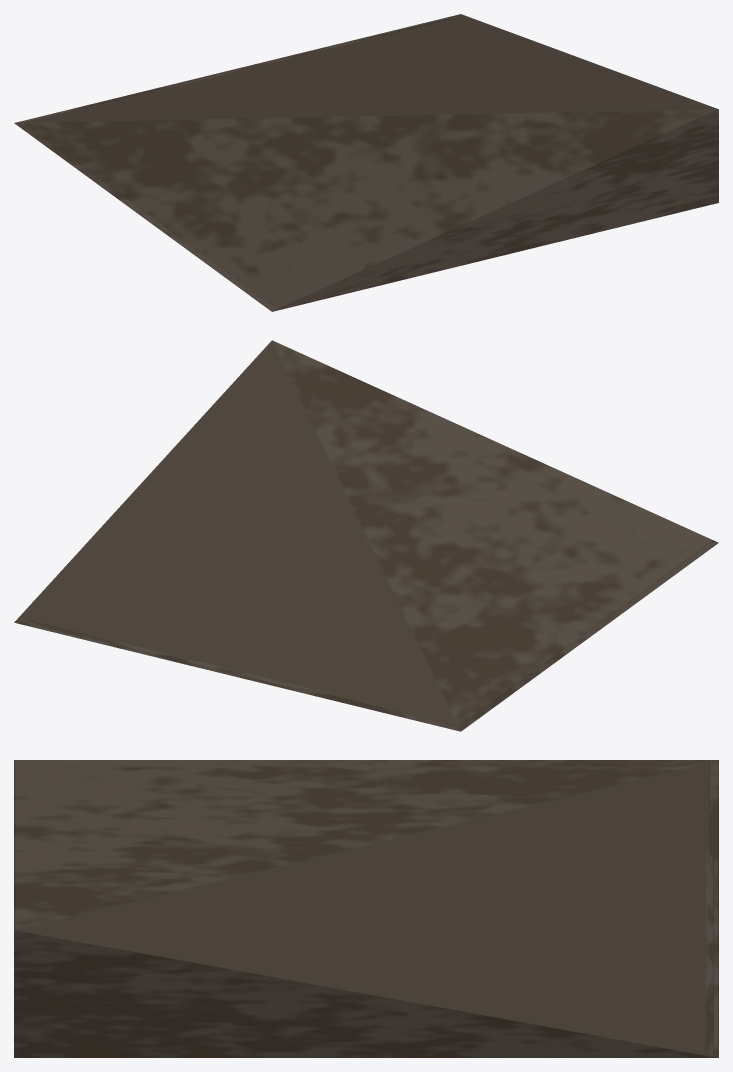
The model's file is CornerPavement.fbx.
3 views of the same model, one above another, from view 1: azimuth 30°, elevation 25°; view 2: azimuth 150°, elevation 25°; view 3: azimuth 270°, elevation 25° (orthographic). The views are drawn at different scales.
Parts seen in each view (by area): view 1: BakedCornerPavement; view 2: BakedCornerPavement; view 3: BakedCornerPavement.
Boxes of the visible parts, box(x1,y1,x2,y2) form: BakedCornerPavement: box(14, 14, 718, 311); BakedCornerPavement: box(14, 340, 718, 731); BakedCornerPavement: box(14, 760, 718, 1057).
Bounding box in the file's own units: 500 × 100 × 500.
